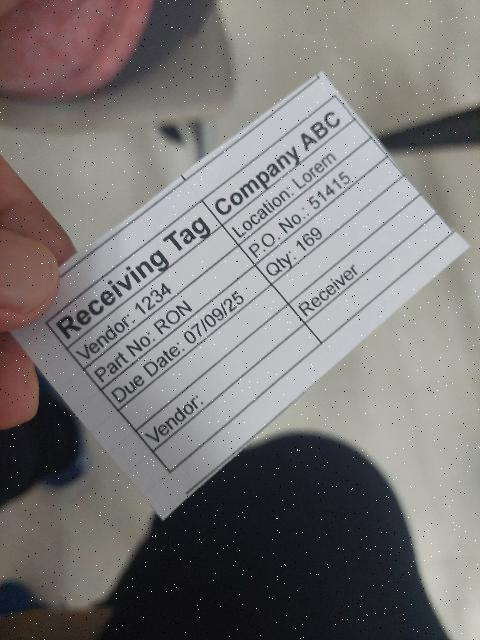PO no: (240, 139, 388, 266)
part no: (82, 244, 257, 390)
qty: (256, 157, 409, 287)
tags: (12, 71, 469, 523)
